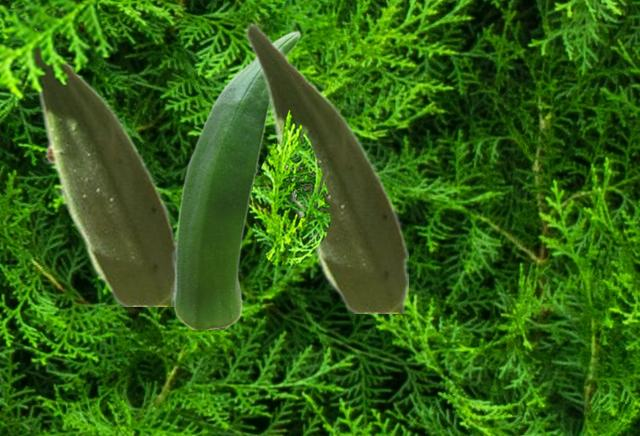okra: (244, 22, 407, 312), (20, 15, 176, 305), (172, 30, 300, 328)
